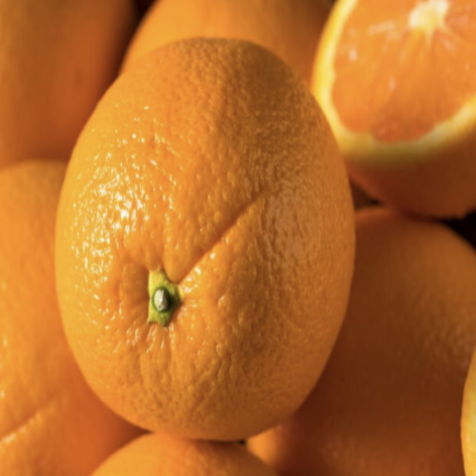orange: (18, 8, 369, 462)
